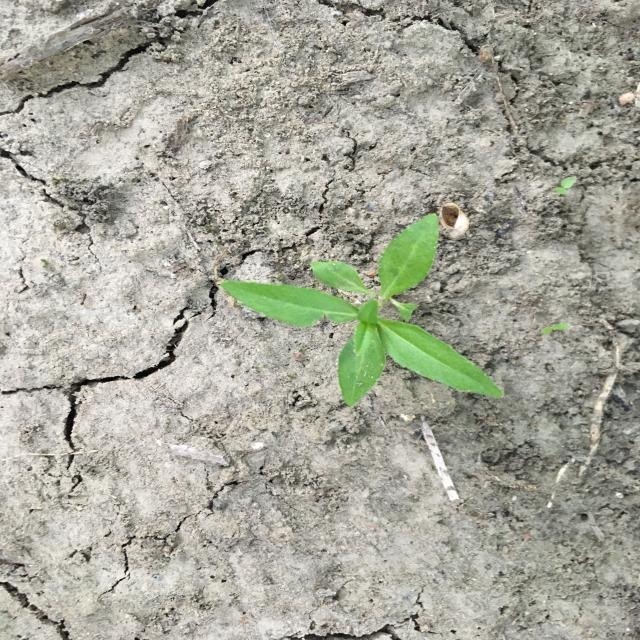Eclipta: (218, 212, 506, 409)
